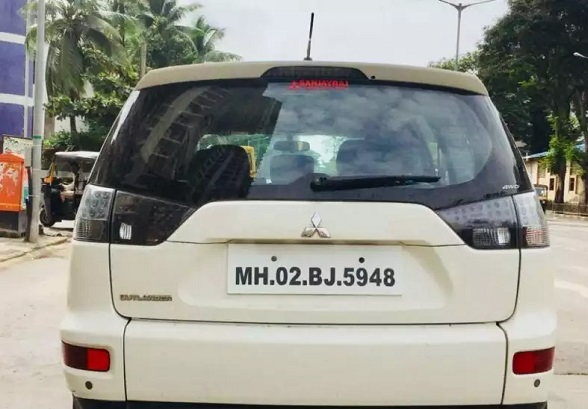licenseplate: (224, 240, 410, 297)
